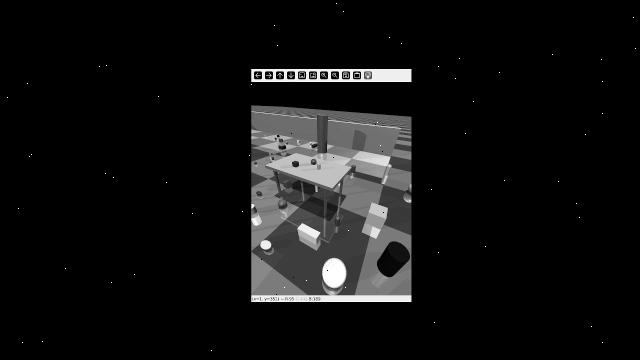cilindro: (376, 238, 408, 274), (318, 114, 329, 152), (381, 163, 394, 177), (333, 214, 344, 226), (252, 200, 257, 219), (350, 163, 358, 174), (313, 181, 320, 193), (265, 151, 272, 158), (311, 144, 320, 148), (270, 156, 275, 160)
cuadrado: (364, 200, 387, 231), (281, 177, 295, 190), (278, 142, 285, 146), (278, 138, 284, 142), (264, 134, 268, 138), (297, 140, 301, 144), (277, 134, 280, 138)
esfera: (323, 248, 352, 288), (260, 238, 274, 252), (275, 195, 288, 210), (405, 183, 413, 193), (308, 156, 317, 163), (256, 190, 264, 197), (253, 159, 260, 165), (308, 140, 314, 145), (273, 137, 278, 140), (285, 142, 289, 145)
rectangulo: (297, 222, 322, 243), (277, 145, 288, 149)
